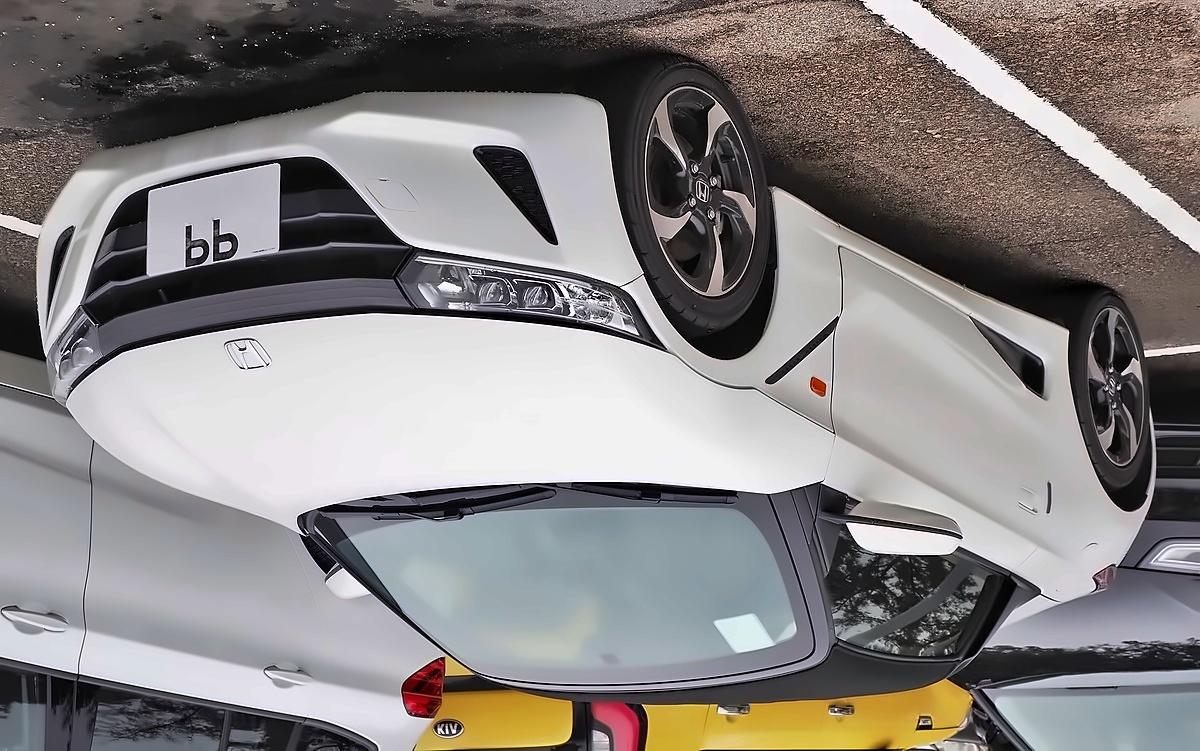Car hood: (56, 302, 830, 518)
Driver-s door - -F-R-: (799, 244, 1052, 667)
Fender - -R-R-: (615, 208, 844, 469), (1048, 318, 1135, 553)
Front bumper: (24, 78, 666, 311)
Headlight - -L-: (36, 298, 115, 413)
Headlight - -R-: (387, 240, 677, 356)
Rear light - -R-: (1082, 550, 1137, 607)
Side bumper - -R-: (758, 180, 1081, 373)
Side mirror - -L-: (302, 540, 390, 622)
Side mirror - -R-: (814, 488, 975, 565)
